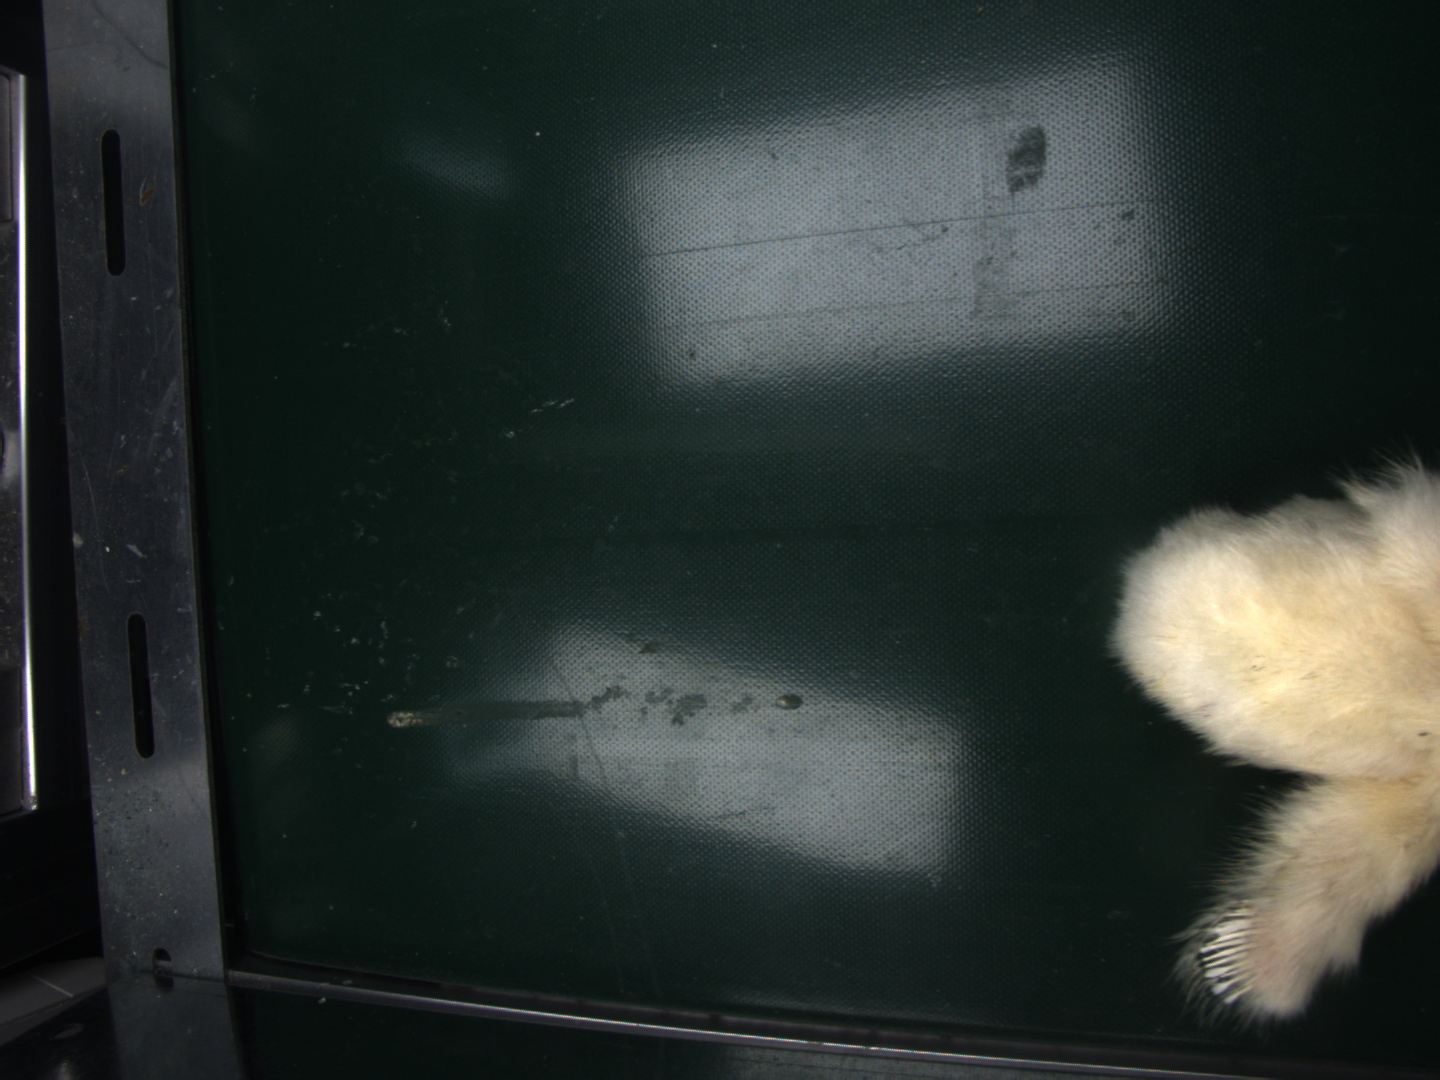male: (1204, 908, 1263, 999)
